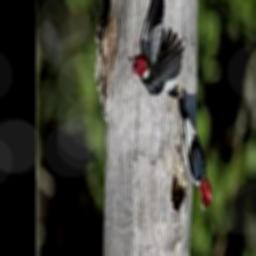Woodpecker: (128, 0, 184, 95), (177, 98, 211, 214)
